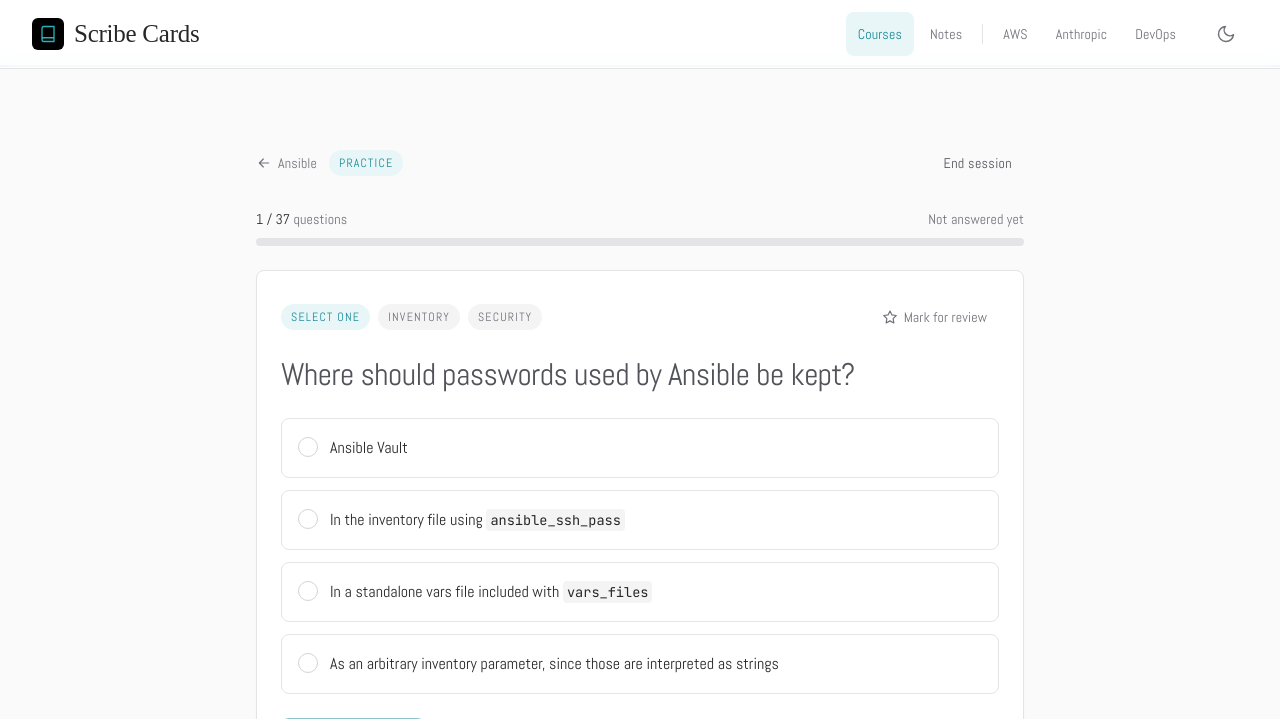
Test: the quiz flow › ends a session early and shows results with a route back
Click the button "End session": [978, 163] box [932,141,1024,185]
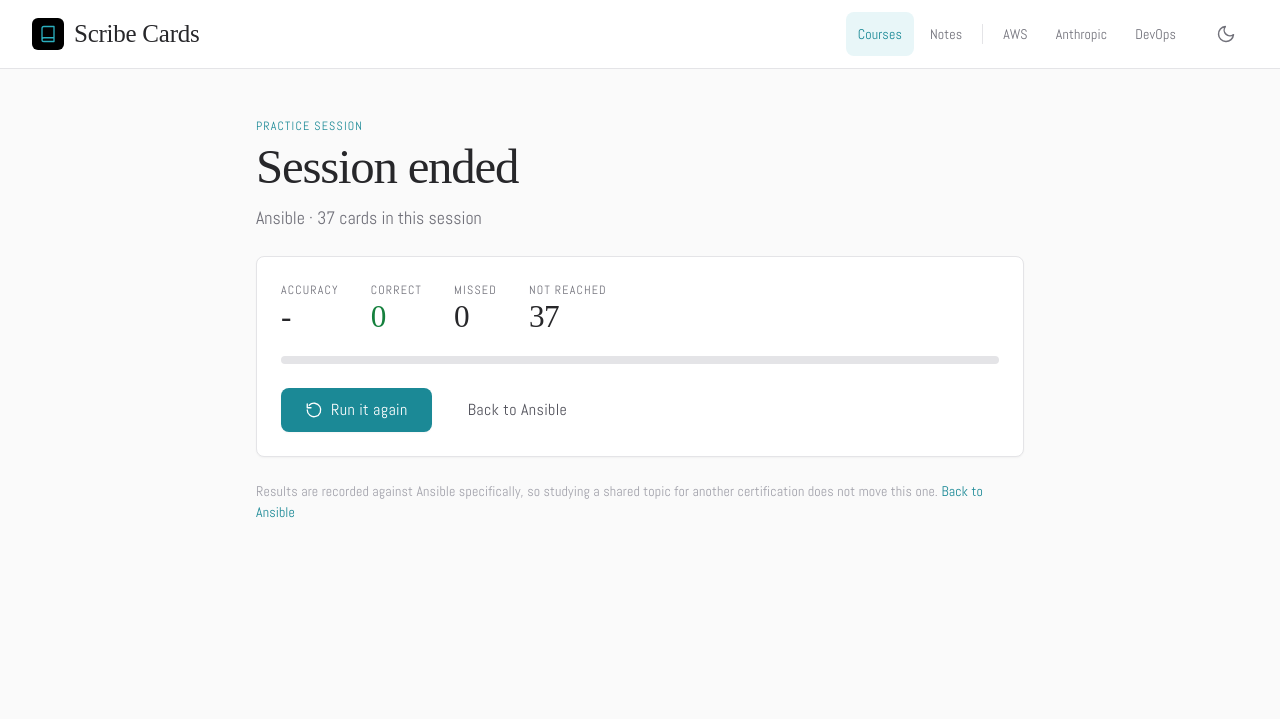
expect the heading "Session ended" is shown: met, box [256,139,518,194]
expect the button "Run it again" is shown: met, box [281,388,432,432]
expect the link "Back to Ansible" below "Accuracy" is shown: met, box [468,399,567,420]
